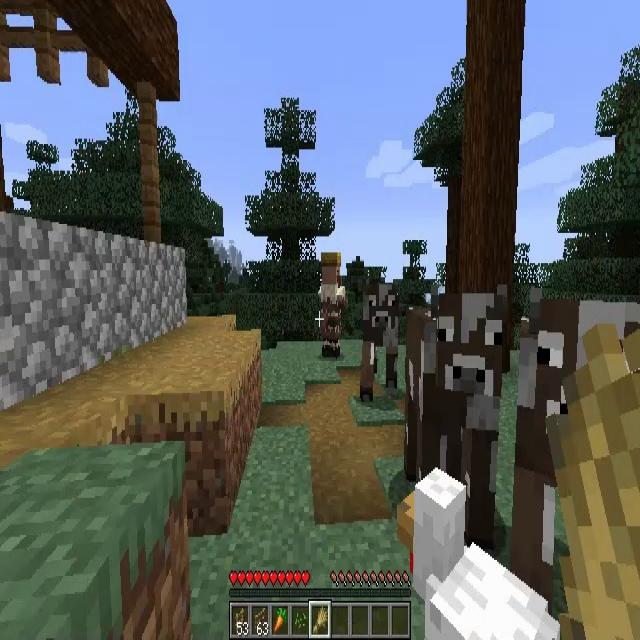cow: (516, 297, 640, 598), (406, 289, 497, 561), (361, 277, 400, 398)
duck: (398, 468, 560, 640)
people: (317, 251, 346, 359)
